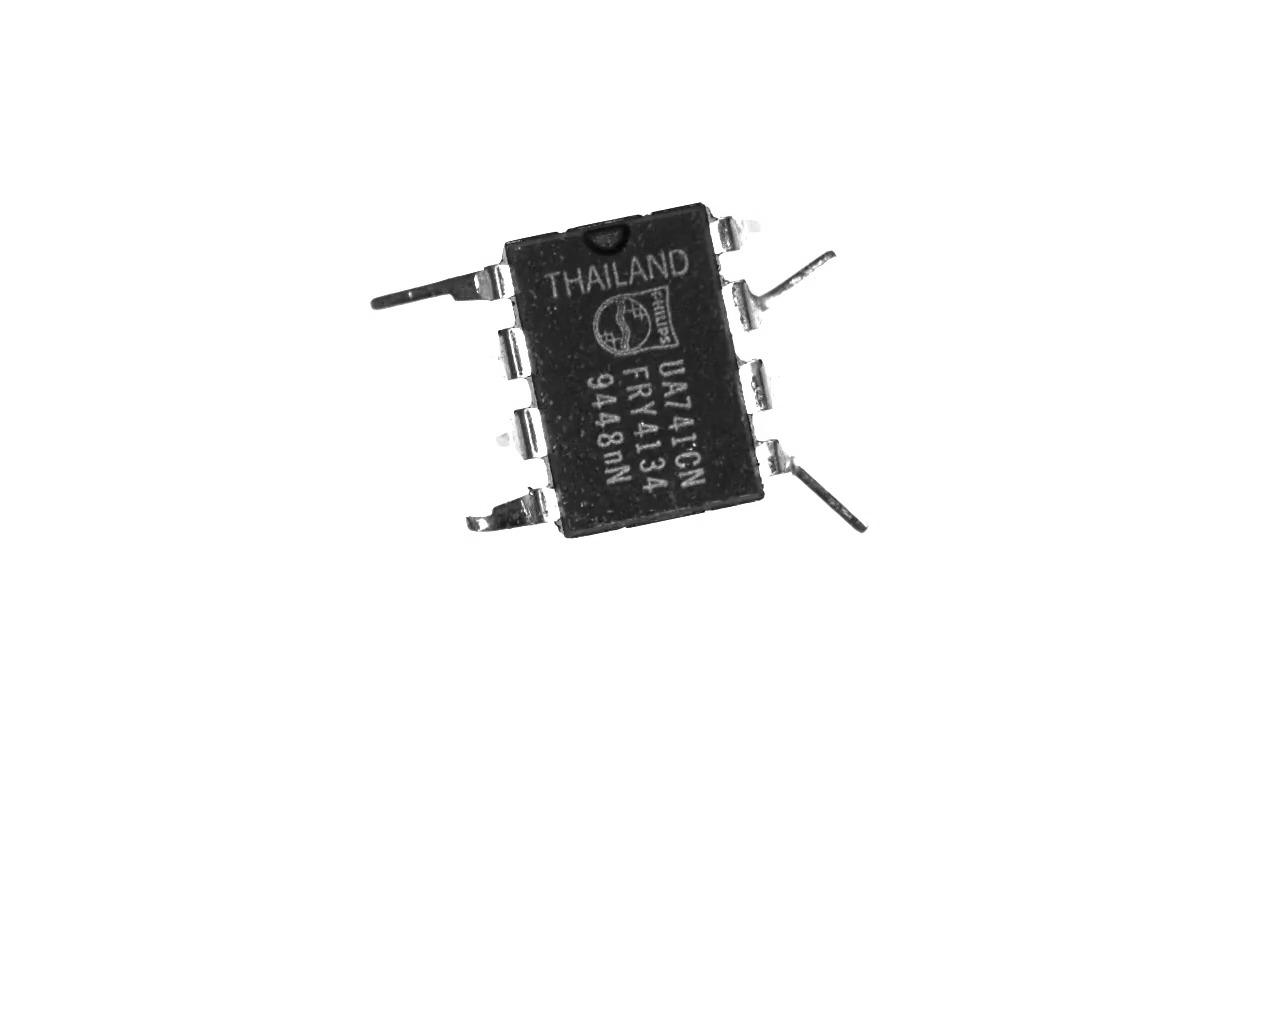Leg: (758, 430, 870, 536), (722, 246, 842, 335), (368, 263, 519, 312), (459, 480, 562, 543), (485, 401, 549, 464), (712, 210, 776, 265), (741, 351, 776, 417), (488, 330, 529, 381)
